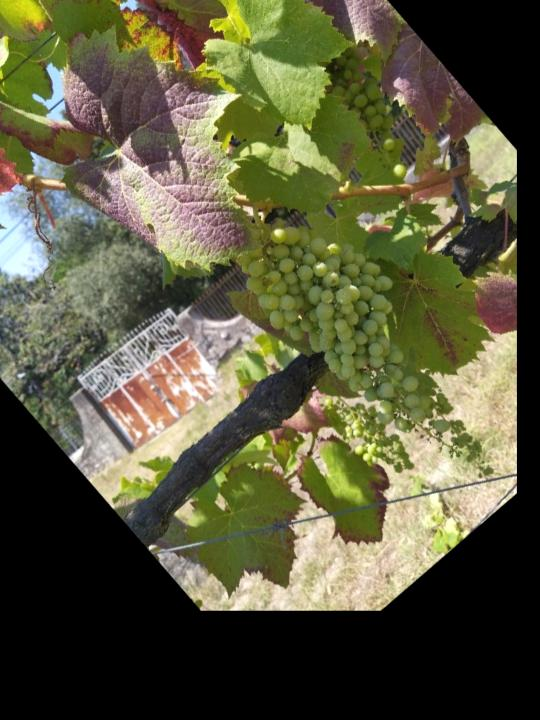grape: (214, 176, 538, 524), (310, 372, 431, 498)
